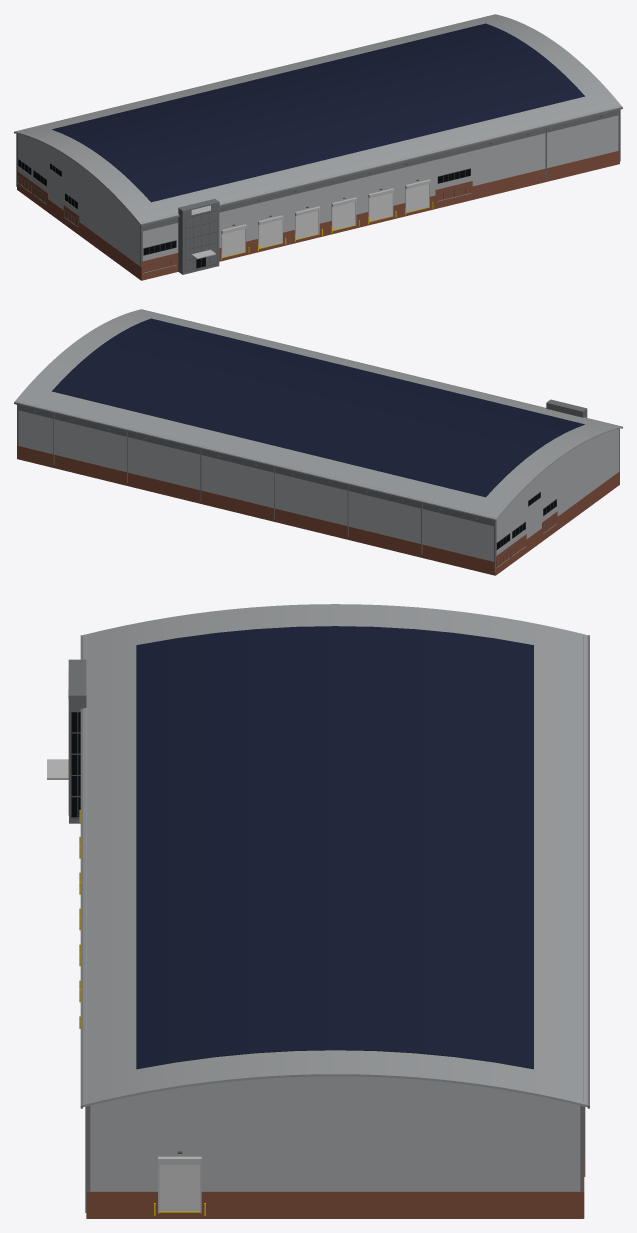
File: context.industrial.solar_curve.glb
The picture shows the model from 3 angles, top to bottom: view 1: azimuth 30°, elevation 25°; view 2: azimuth 150°, elevation 25°; view 3: azimuth 270°, elevation 25°; orthographic projection. The views are drawn at different scales.
Visible parts, largest first — view 1: main__enamel_123, main__clad_aab, main__clad_999, main__brick_854, main__clad_777, main__galv_ccc, main__steel_777, main__steel_bbb, main__paint_555, main__glass_dark; view 2: main__enamel_123, main__clad_aab, main__clad_999, main__brick_854, main__clad_777, main__steel_777, main__paint_555, main__glass_dark; view 3: main__enamel_123, main__clad_999, main__clad_aab, main__brick_854, main__steel_777, main__galv_ccc, main__clad_777, main__steel_bbb, main__glass_dark.
Part boxes in pixels (x1,y1,x2,y2): main__enamel_123: (52,23,584,202); main__clad_aab: (18,115,618,265); main__clad_999: (14,14,622,224); main__brick_854: (17,151,619,280); main__clad_777: (143,110,618,274); main__galv_ccc: (222,184,428,257); main__steel_777: (14,14,622,266); main__steel_bbb: (18,166,470,273); main__paint_555: (18,115,602,272); main__glass_dark: (18,159,470,268); main__enamel_123: (52,318,584,497); main__clad_aab: (18,410,618,561); main__clad_999: (14,309,622,519); main__brick_854: (17,445,619,575); main__clad_777: (18,399,587,526); main__steel_777: (14,309,622,572); main__paint_555: (34,410,556,567); main__glass_dark: (497,492,556,549); main__enamel_123: (136,626,533,1069); main__clad_999: (83,604,587,1107); main__clad_aab: (86,636,580,1191); main__brick_854: (86,1156,584,1218); main__steel_777: (80,635,589,1212); main__galv_ccc: (159,1165,199,1211); main__clad_777: (68,637,583,1100); main__steel_bbb: (47,759,201,1213); main__glass_dark: (71,712,80,817).
Size of the model in its own units: 101 by 14.72 by 49.16.
